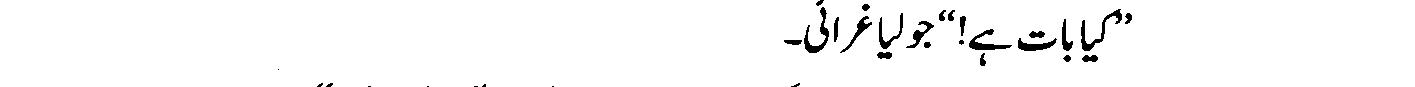bay_shosha: (1060, 38, 1075, 62)
